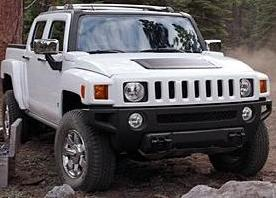front_view: (91, 72, 270, 166)
headlight: (89, 76, 154, 107)
side_glass: (21, 17, 74, 62)
